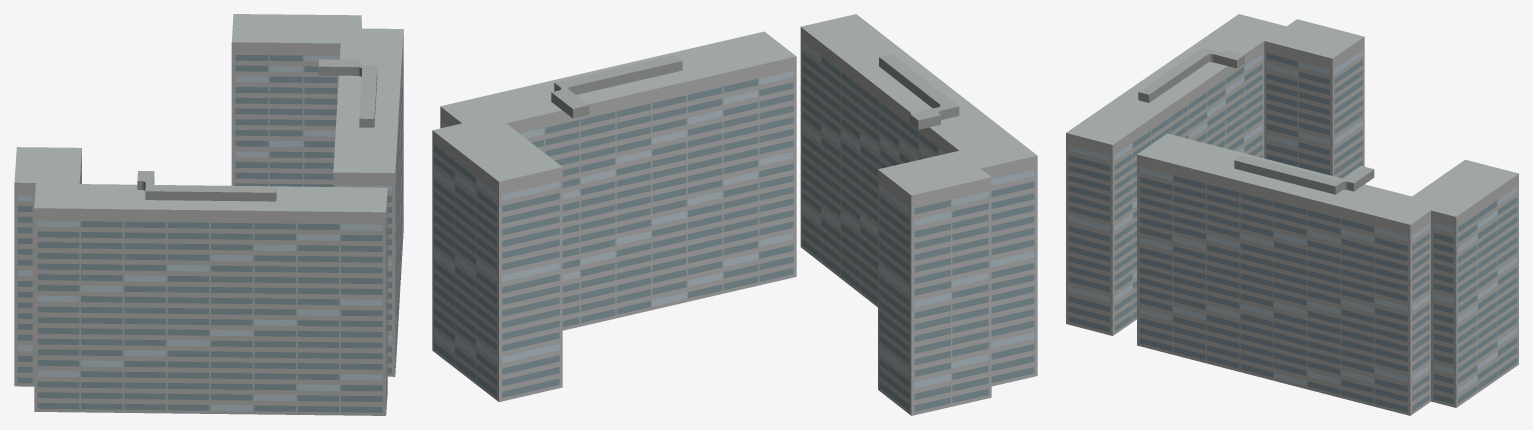
File: apt-a15086603.glb
3 renders of one model, left to right at view 1: azimuth 30°, elevation 25°; view 2: azimuth 150°, elevation 25°; view 3: azimuth 270°, elevation 25°, orthographic. The views are drawn at different scales.
Parts seen in each view (by area): view 1: apt-a15086603; view 2: apt-a15086603; view 3: apt-a15086603.
Part boxes in pixels (x1=…): apt-a15086603: x1=14, y1=14, x2=403, y2=415; apt-a15086603: x1=432, y1=14, x2=1037, y2=415; apt-a15086603: x1=1066, y1=14, x2=1518, y2=415.
Size of the model in its own units: 132 by 58 by 119.
